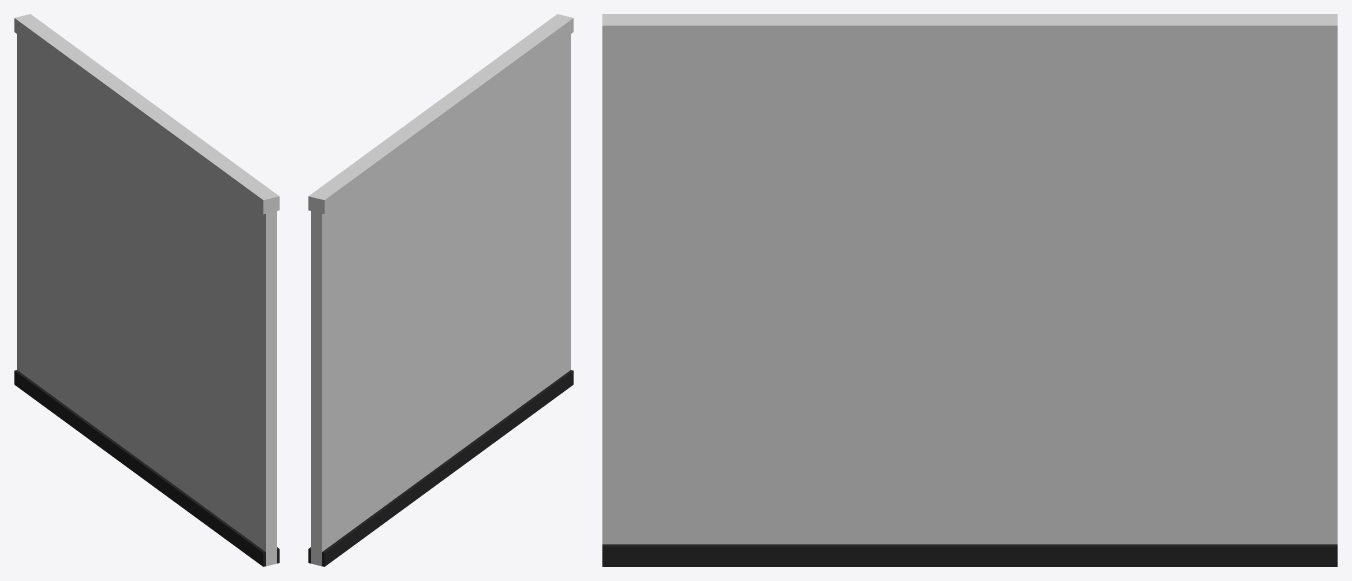
The model's file is wall_01_L.glb.
The picture shows the model from 3 angles, left to right: view 1: azimuth 30°, elevation 25°; view 2: azimuth 150°, elevation 25°; view 3: azimuth 270°, elevation 25°; orthographic projection. The views are drawn at different scales.
Visible parts, largest first — view 1: Untitled; view 2: Untitled; view 3: Untitled.
Boxes of the visible parts, x1=… form: Untitled: x1=14, y1=14, x2=279, y2=566; Untitled: x1=308, y1=14, x2=573, y2=566; Untitled: x1=602, y1=14, x2=1337, y2=566.
Size of the model in its own units: 0.18 by 3.9 by 4.8.
1 material, 1 textured.
